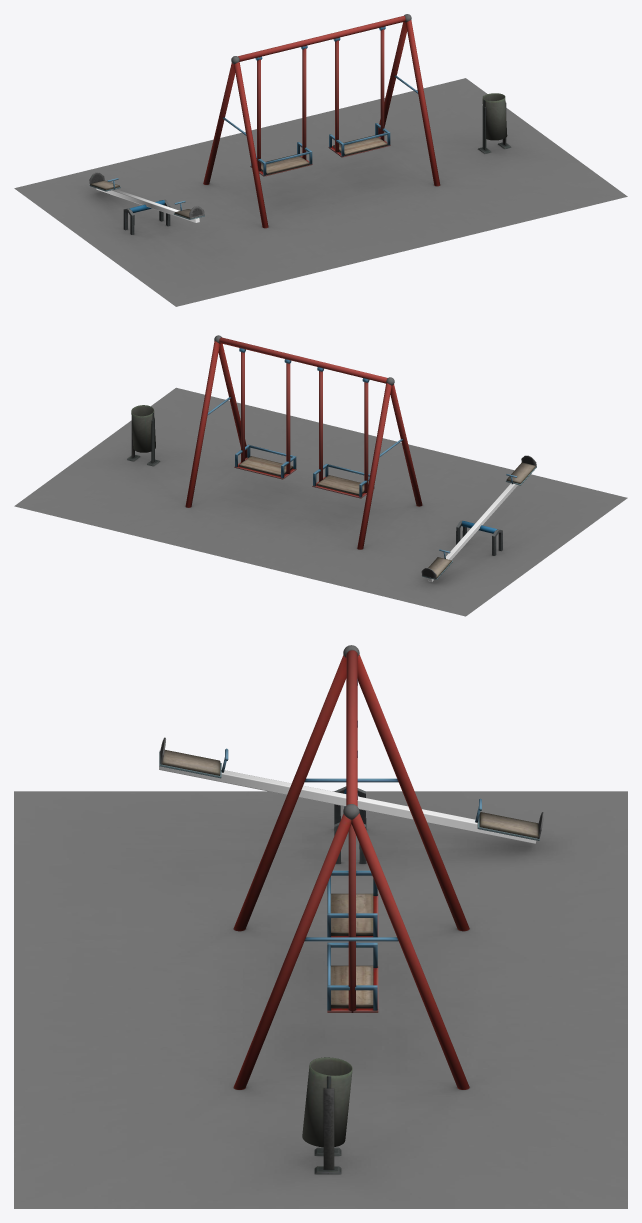
Rendered from swings.glb.
The picture shows the model from 3 angles, top to bottom: view 1: azimuth 30°, elevation 25°; view 2: azimuth 150°, elevation 25°; view 3: azimuth 270°, elevation 25°; orthographic projection. The views are drawn at different scales.
Visible parts, largest first — view 1: Object_3, Object_2; view 2: Object_3, Object_2; view 3: Object_3, Object_2.
Part boxes in pixels (bbox=[...]): Object_3: bbox=[14, 14, 627, 306]; Object_2: bbox=[96, 188, 199, 222]; Object_3: bbox=[14, 335, 627, 616]; Object_2: bbox=[428, 483, 517, 581]; Object_3: bbox=[14, 645, 627, 1208]; Object_2: bbox=[159, 766, 536, 843].
Bounding box in the file's own units: 7.3 × 2.33 × 4.53.
Materials: 2 (1 with a texture image).
